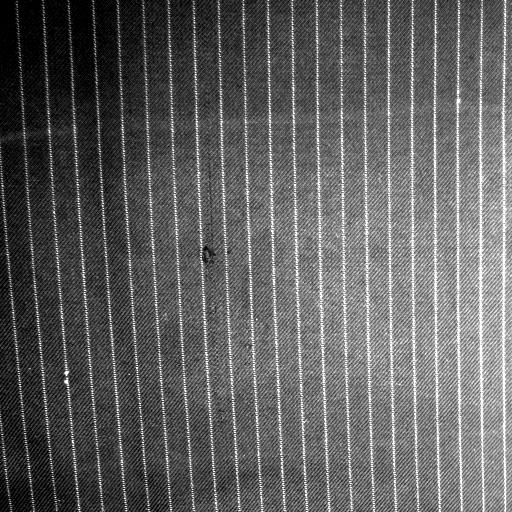fabric_hole: (199, 238, 227, 284)
